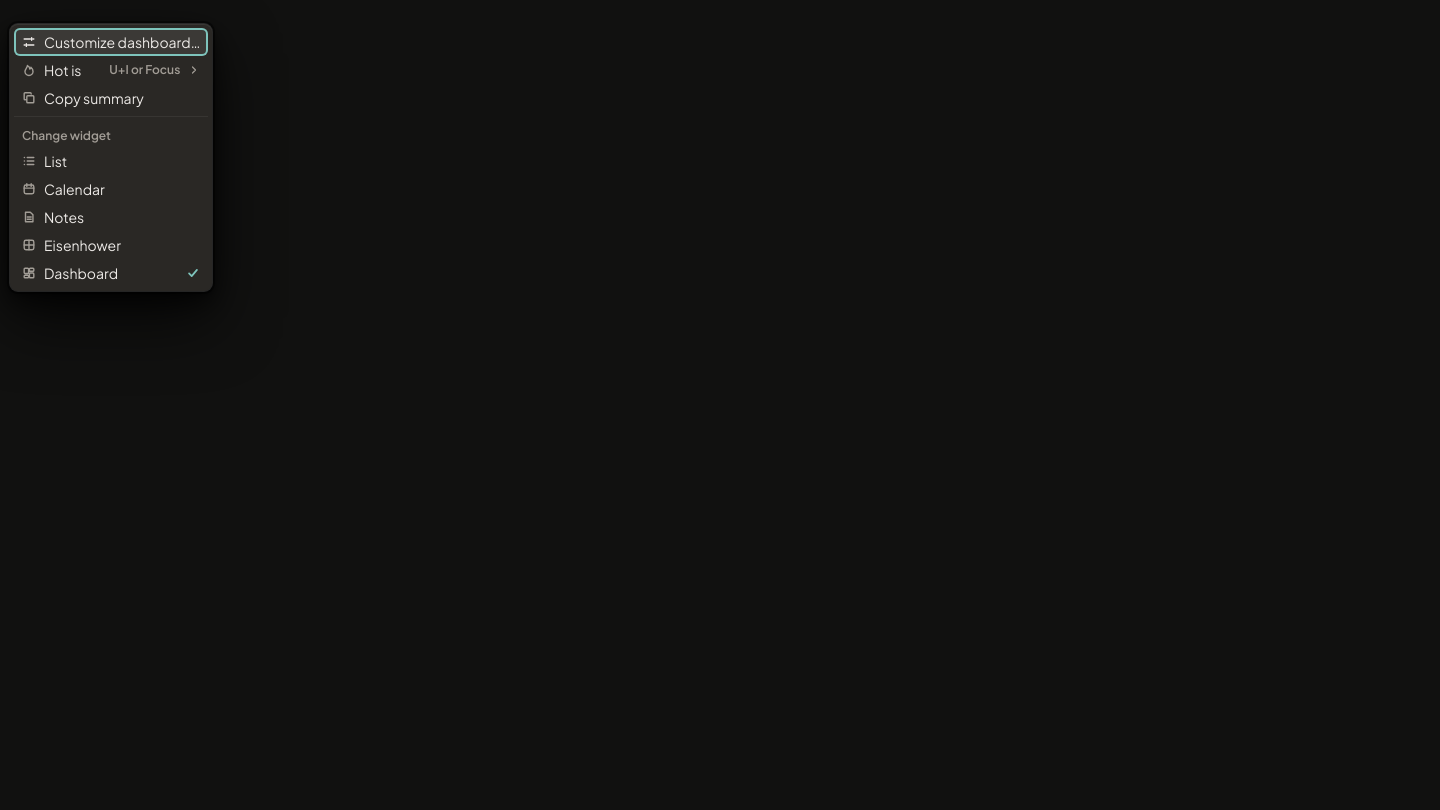
Test case: Dashboard tab menu › Hot is › opens the app-wide rule editor: changes save at once and update the count and the menu item
The image size is (1440, 810).
Click the menu item "Hot is U+I or Focus". click: point(111, 70)
box: [14, 56, 208, 84]
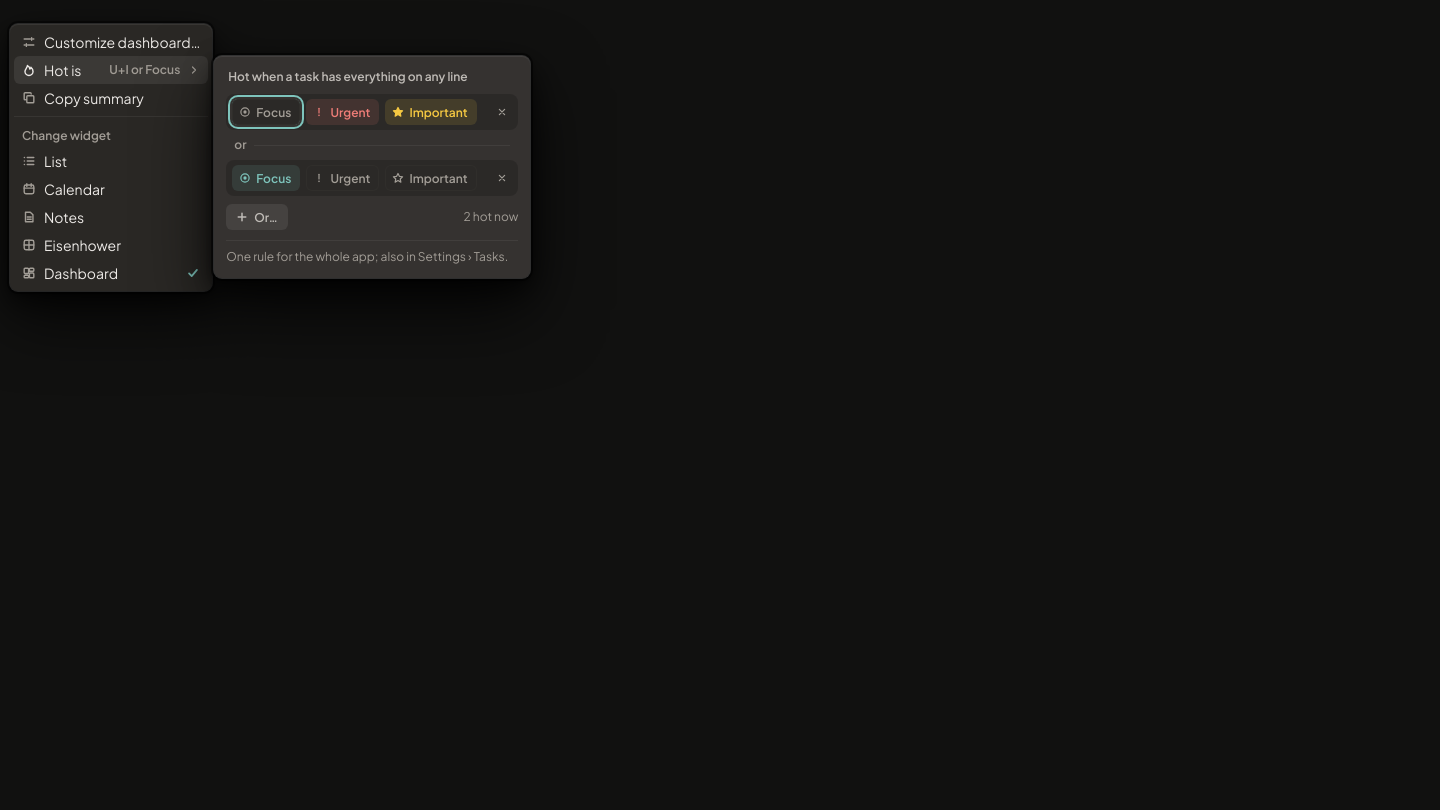
Now the dialog named "Hot rule" shows "Hot when a task has everything on any line", box [228, 69, 468, 84]
Now the dialog named "Hot rule" shows "One rule for the whole app; also in Settings › Tasks.", box [226, 249, 508, 264]
Now the text with test id "hot-rule-total" reads "2 hot now", box [464, 208, 518, 226]
# Line 1 without Important: Urgent OR Focus.
Click the 1st button "Important". click: point(431, 112)
box: [385, 99, 477, 125]
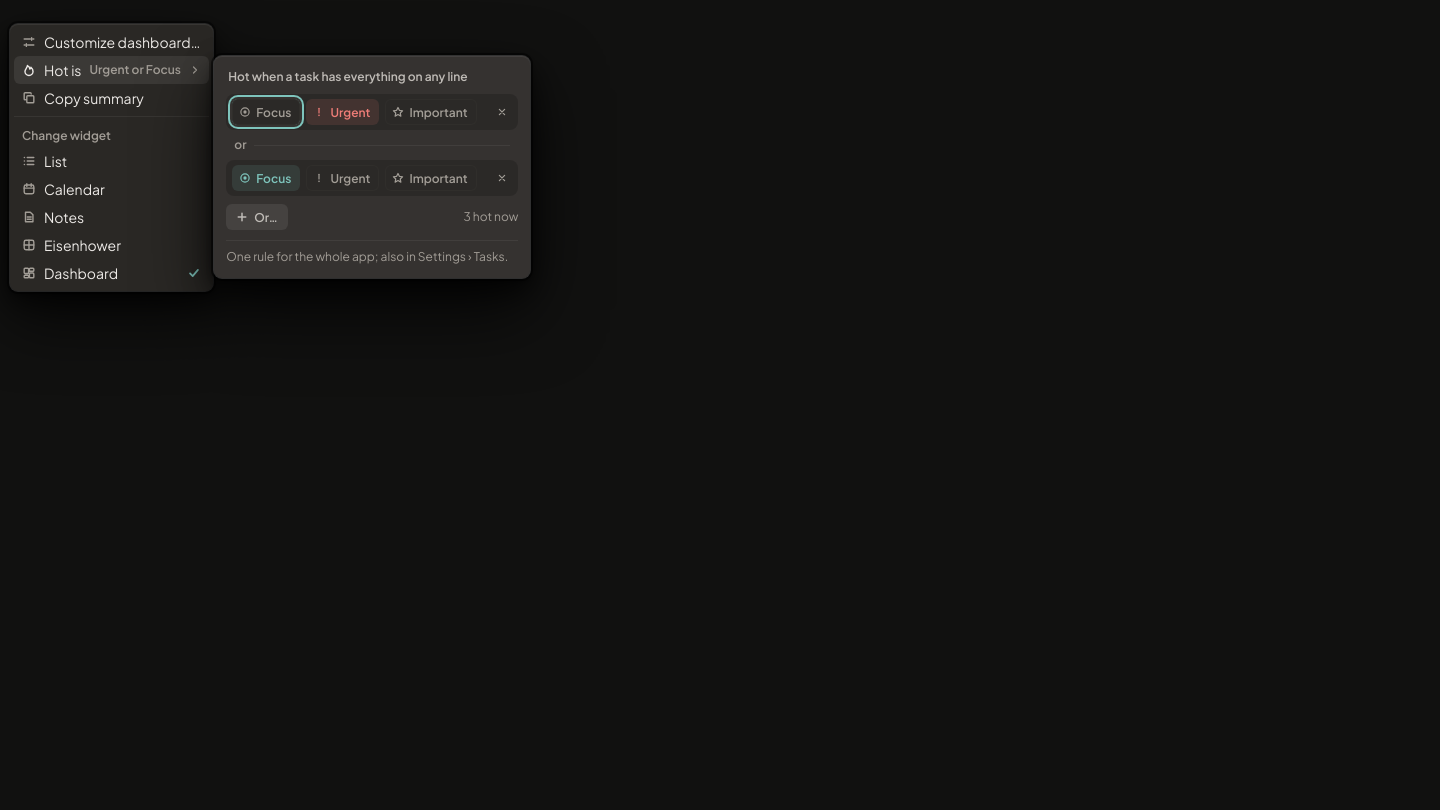
Now the text with test id "hot-rule-total" reads "3 hot now", box [463, 208, 518, 226]
Now the menu item "Hot is Urgent or Focus" is shown, box [14, 56, 209, 84]
